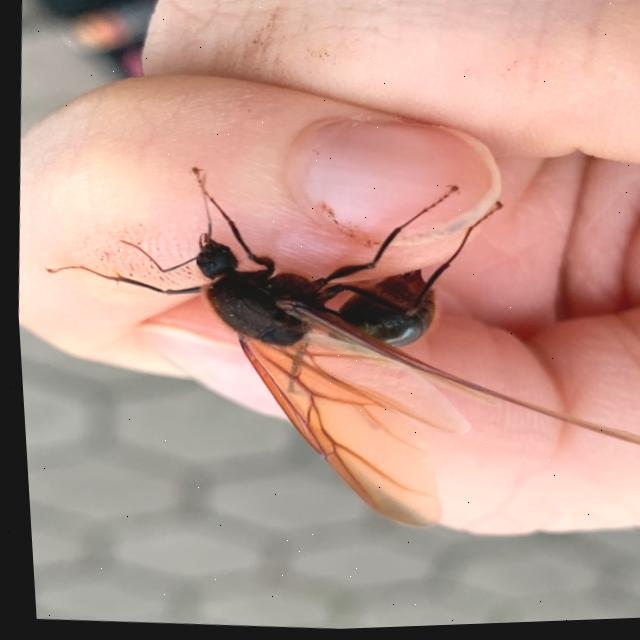Alive-Male-Alate: (18, 144, 640, 559)
